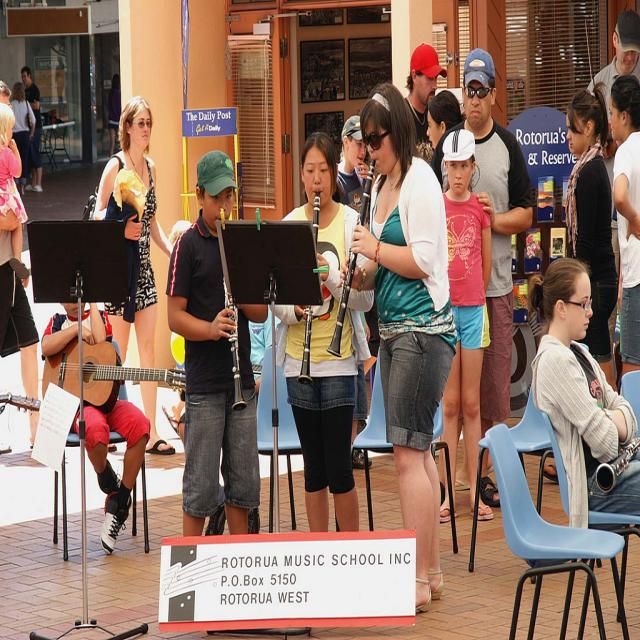clarinet: (326, 158, 379, 360), (296, 192, 322, 388), (220, 262, 248, 413), (595, 436, 640, 494)
guitar: (41, 337, 186, 412)
